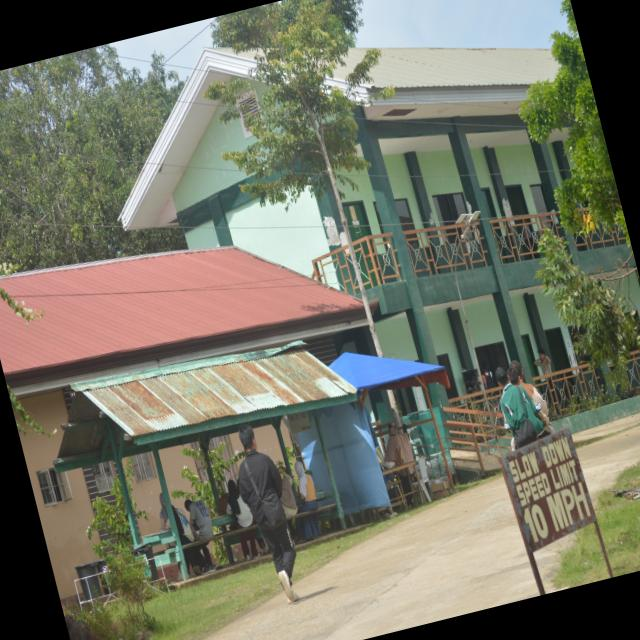person: (238, 425, 299, 603), (496, 367, 549, 438), (227, 480, 267, 560), (295, 461, 321, 540), (185, 500, 214, 569), (535, 349, 552, 375)
